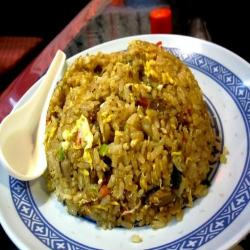rice: (47, 58, 210, 224)
